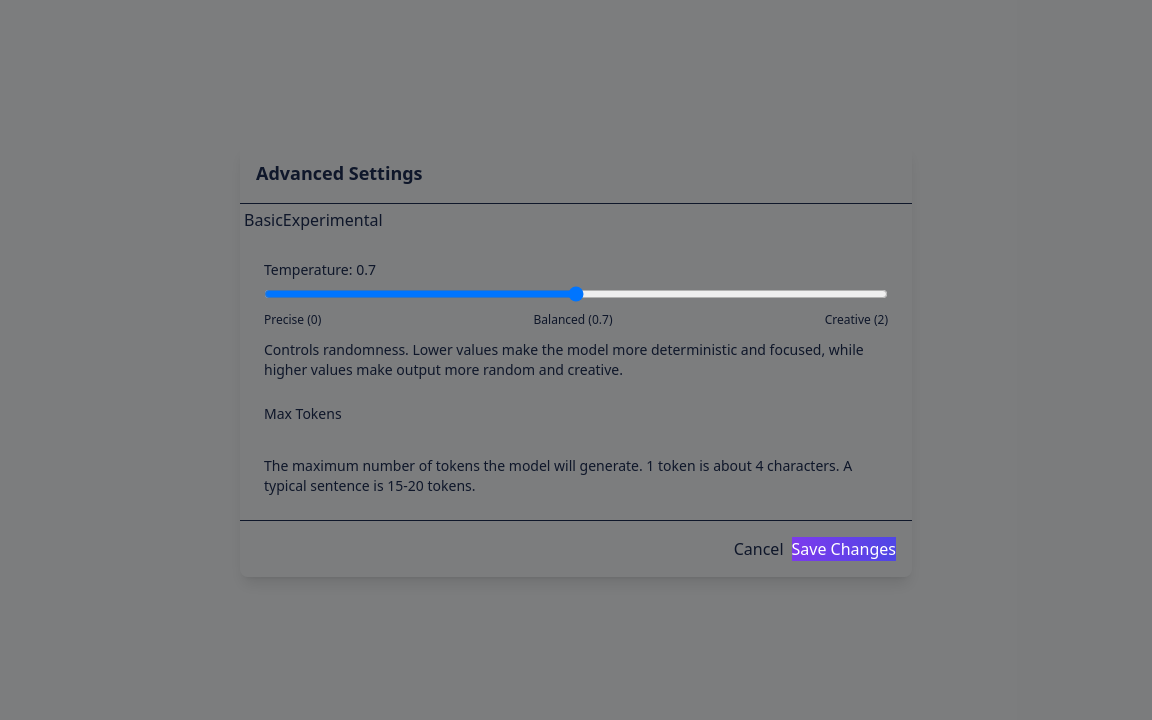
ParticipantAdvancedSettings › switches between basic and experimental tabs
Expected: the text "Temperature: 0.7" is shown, 264,260 -> 376,279
Note: Click on Experimental tab
Click the button "Experimental" at (333, 220), box 283,208 -> 383,232
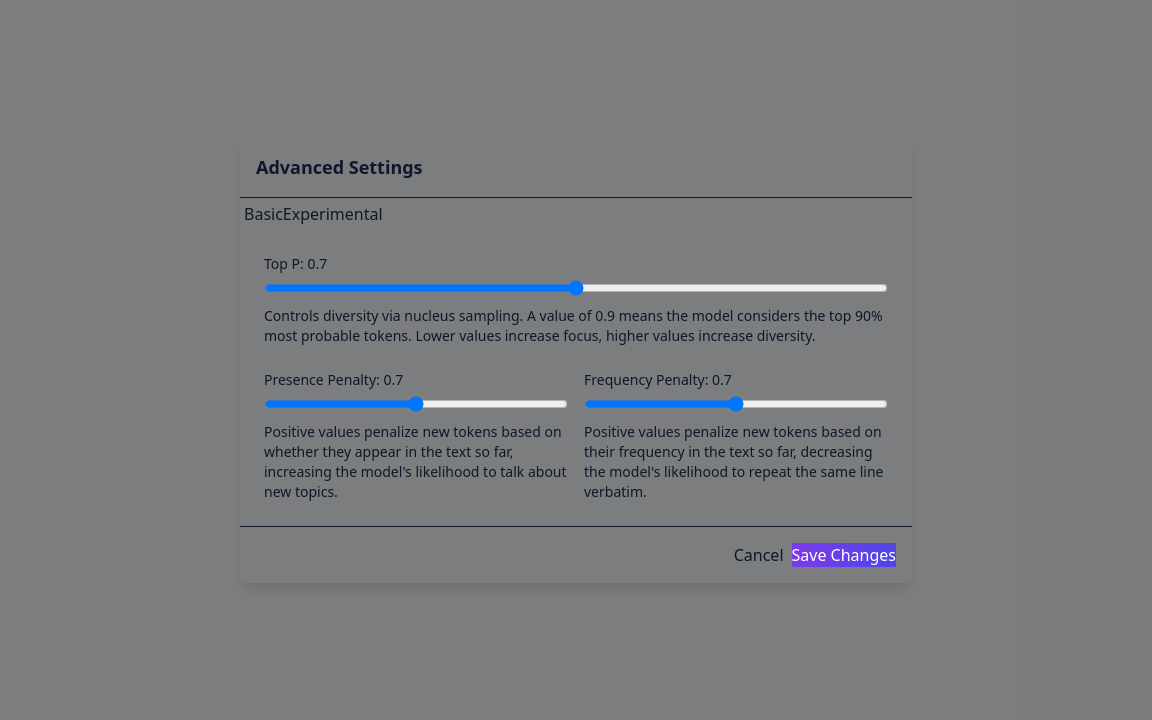
Now the text "Top P: 0.7" is shown, box 264,254 -> 327,273
Now the text "Presence Penalty: 0.7" is shown, box 264,370 -> 403,389
Now the text "Frequency Penalty: 0.7" is shown, box 584,370 -> 732,389
